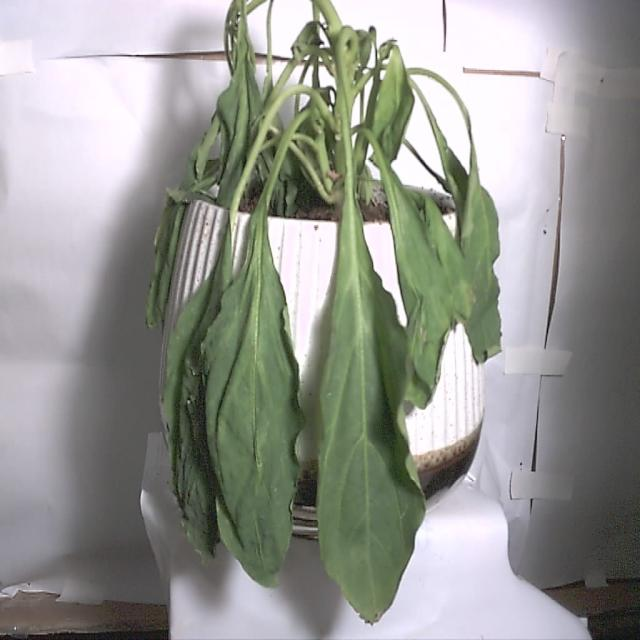Leaf: (318, 216, 426, 626), (202, 232, 304, 590), (162, 240, 248, 564), (395, 193, 476, 408)
